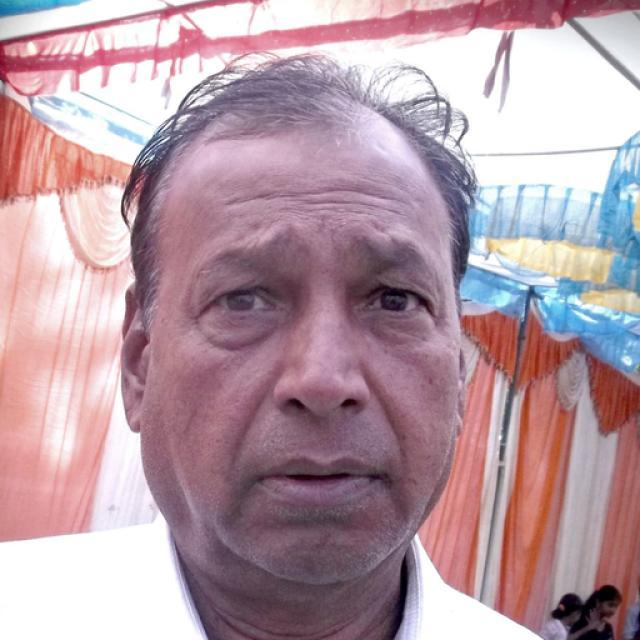sad: (146, 124, 460, 586), (602, 597, 620, 615)
